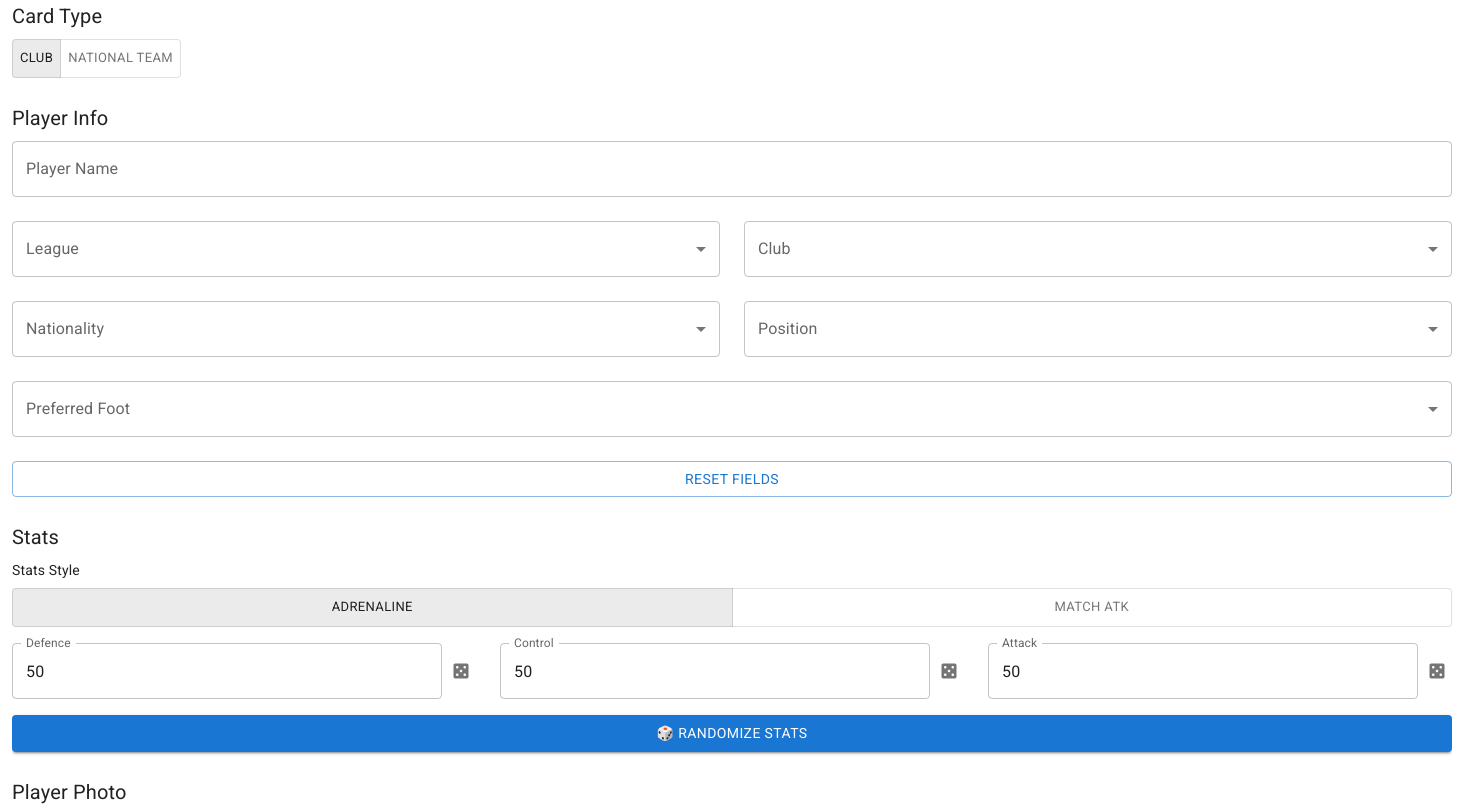
Scenario: Stats Style selector › switching to Match Atk shows Match Atk inputs and hides Adrenaline inputs
The image size is (1464, 810).
What coordinates should you click on to do the following:
click the button with aria-label "Match Atk style"
I would click on:
 (1092, 608)
Its box is [732,588,1452,627].
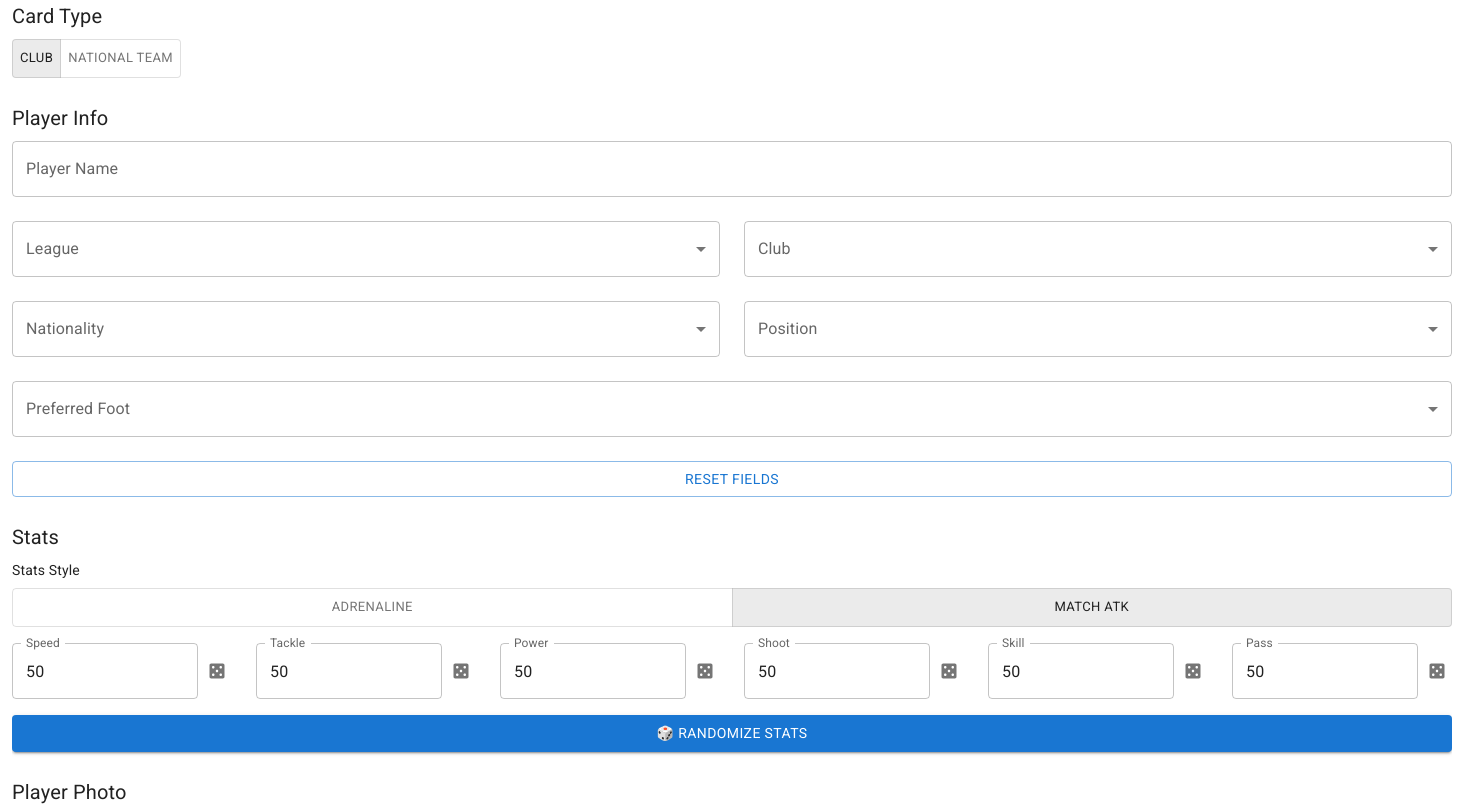
Result: the number field with test id "speed-input" is shown at [12,643,198,699]
Result: the number field with test id "tackle-input" is shown at [256,643,442,699]
Result: the number field with test id "power-input" is shown at [500,643,686,699]
